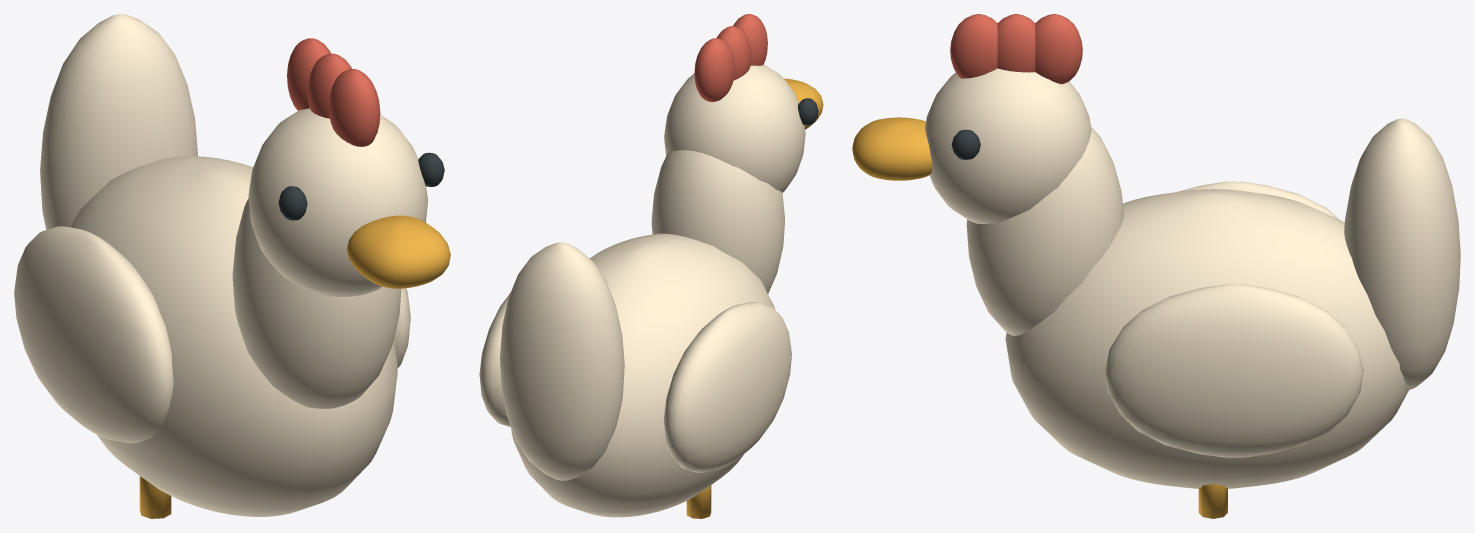
Rendered from farm_hen.glb.
3 renders of one model, left to right at view 1: azimuth 30°, elevation 25°; view 2: azimuth 150°, elevation 25°; view 3: azimuth 270°, elevation 25°, orthographic. The views are drawn at different scales.
Parts seen in each view (by area): view 1: farm_hen_crafted_mesh; view 2: farm_hen_crafted_mesh; view 3: farm_hen_crafted_mesh.
Part boxes in pixels (x1,y1,x2,y2): farm_hen_crafted_mesh: (14,14,450,518); farm_hen_crafted_mesh: (479,14,823,518); farm_hen_crafted_mesh: (852,14,1460,518).
Bounding box in the file's own units: 0.7675 × 1.23 × 1.45.
